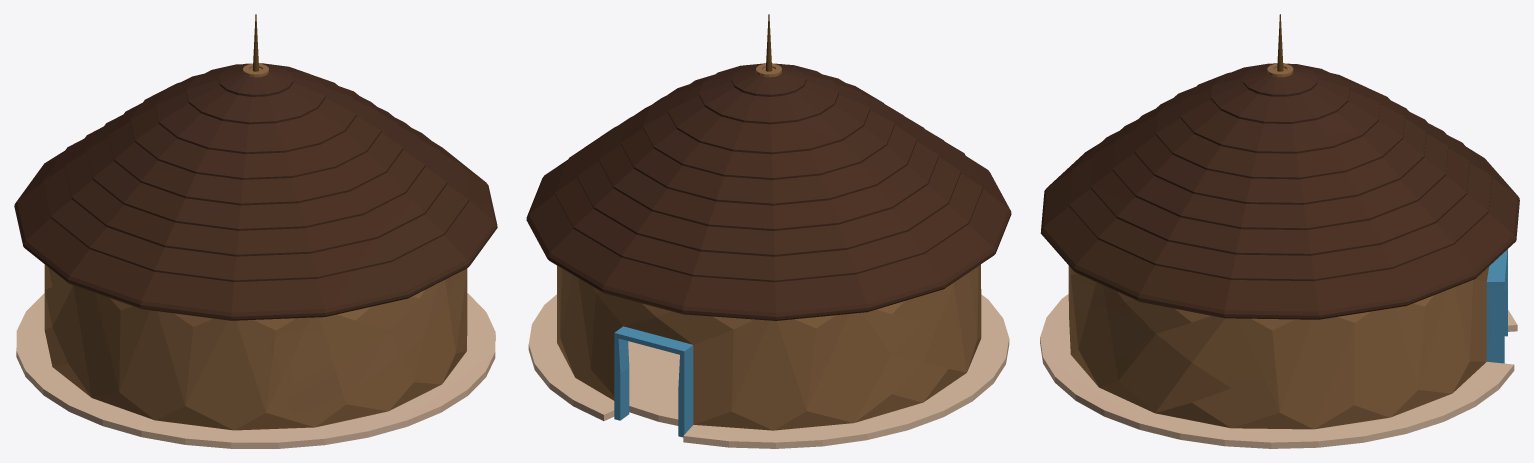
Rendered from African Hut South Africa.fbx.
3 views of the same model, side by side, from view 1: azimuth 30°, elevation 25°; view 2: azimuth 150°, elevation 25°; view 3: azimuth 270°, elevation 25° (orthographic).
Parts seen in each view (by area): view 1: South Africa; view 2: South Africa; view 3: South Africa.
Part boxes in pixels (<box>): South Africa: <box>14,14,497,448</box>; South Africa: <box>526,14,1011,448</box>; South Africa: <box>1040,14,1519,448</box>.
Size of the model in its own units: 1539 by 1178 by 1537.
1 material, 1 textured.
